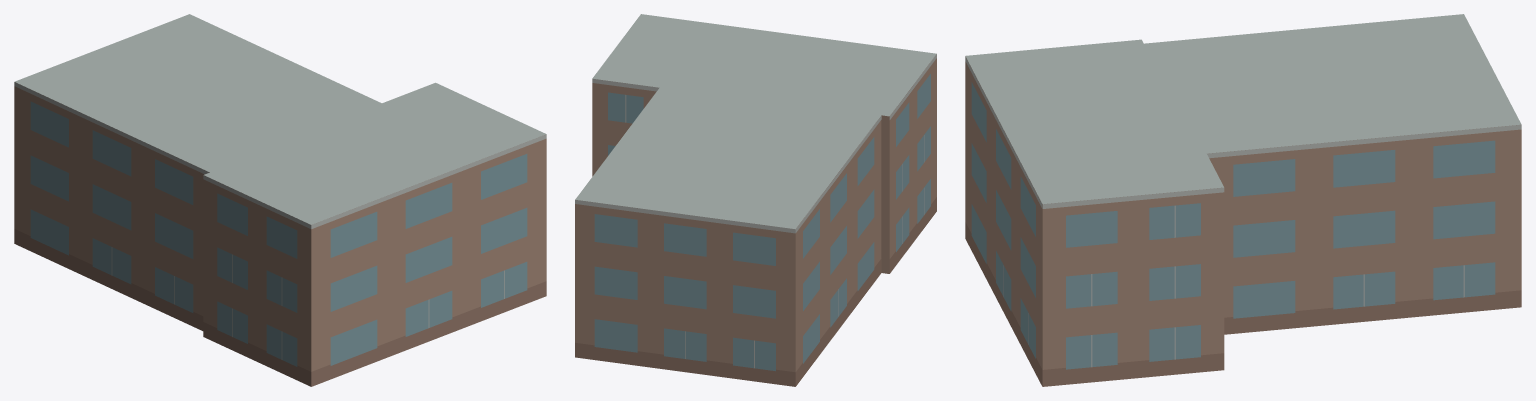
File: survey-upis-32705174.glb
3 renders of one model, left to right at view 1: azimuth 30°, elevation 25°; view 2: azimuth 150°, elevation 25°; view 3: azimuth 270°, elevation 25°, orthographic. The views are drawn at different scales.
Parts seen in each view (by area): view 1: survey-upis-32705174.tmp; view 2: survey-upis-32705174.tmp; view 3: survey-upis-32705174.tmp.
Boxes of the visible parts, box(x1,y1,x2,y2) form: survey-upis-32705174.tmp: box(14, 14, 546, 386); survey-upis-32705174.tmp: box(575, 14, 936, 386); survey-upis-32705174.tmp: box(965, 14, 1521, 386).
Bounding box in the file's own units: 20.45 × 9.15 × 25.27.
